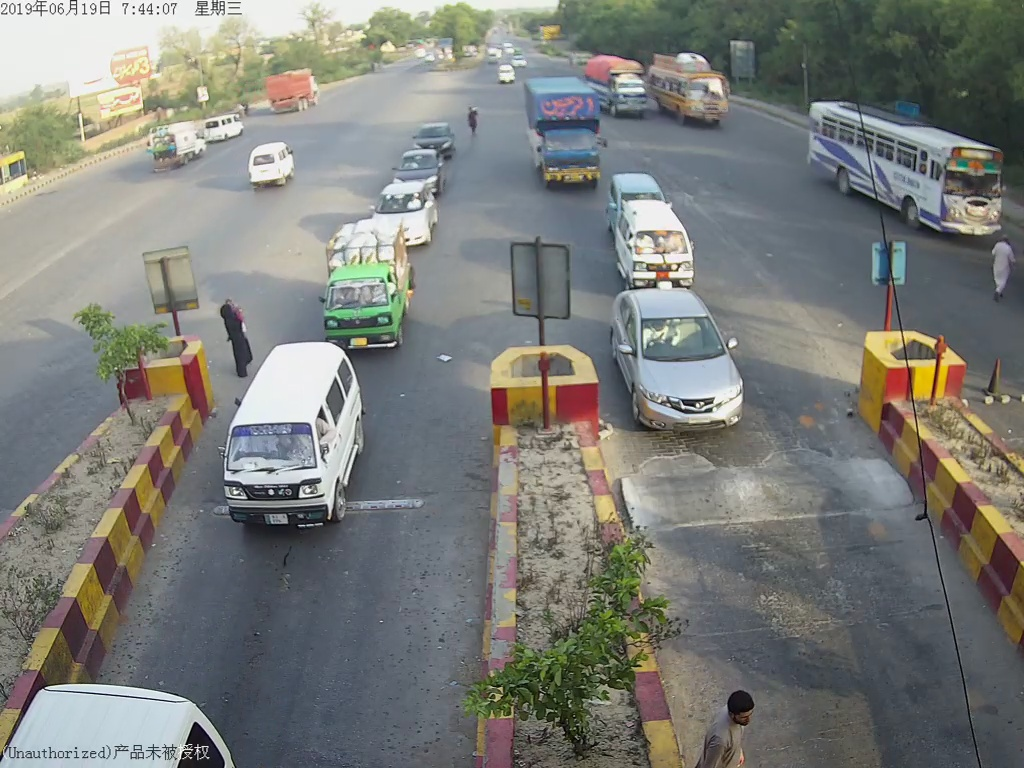Cat-1: (228, 344, 368, 522), (611, 297, 751, 432), (324, 232, 409, 353), (621, 210, 697, 281)
Cat-2: (523, 81, 607, 186)
